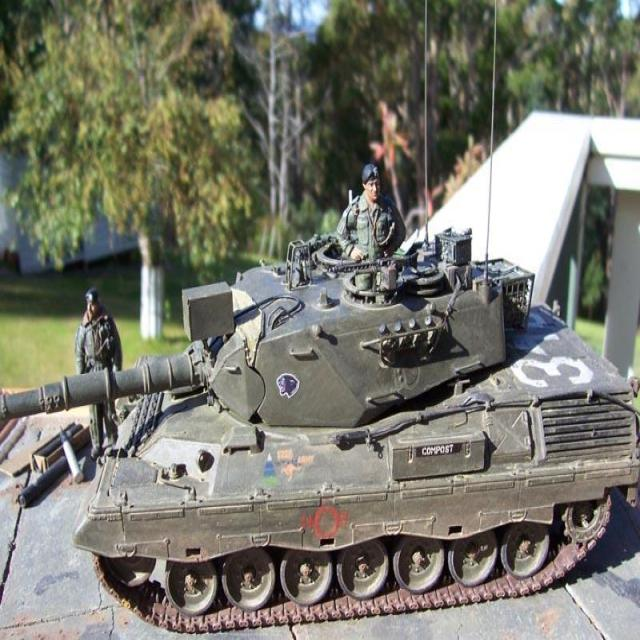Tanks: (6, 20, 572, 632)
